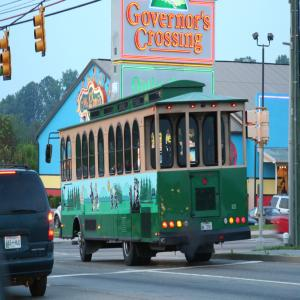Vehicle-registration-plate: (6, 237, 22, 250), (201, 222, 213, 232)
